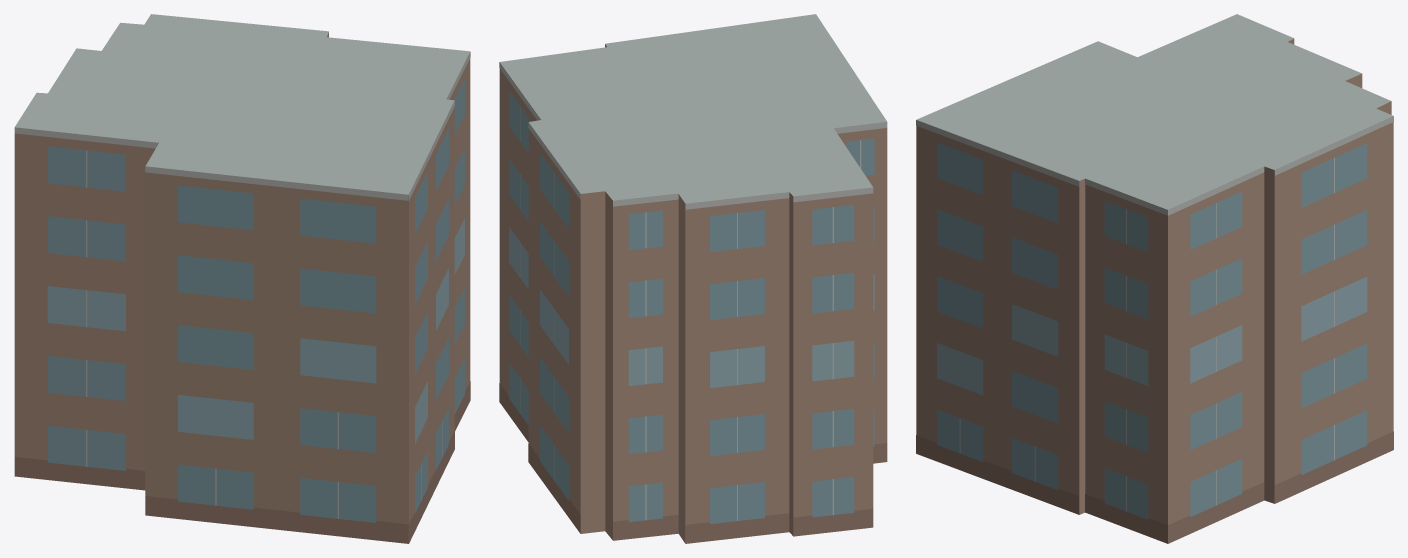
The model's file is survey-upis-32664028.glb.
3 views of the same model, side by side, from view 1: azimuth 30°, elevation 25°; view 2: azimuth 150°, elevation 25°; view 3: azimuth 270°, elevation 25° (orthographic). The views are drawn at different scales.
Parts seen in each view (by area): view 1: survey-upis-32664028.tmp; view 2: survey-upis-32664028.tmp; view 3: survey-upis-32664028.tmp.
Boxes of the visible parts, x1,y1,x2,y2 form: survey-upis-32664028.tmp: [14, 14, 470, 543]; survey-upis-32664028.tmp: [499, 14, 887, 543]; survey-upis-32664028.tmp: [916, 14, 1393, 543].
Bounding box in the file's own units: 17.63 × 14 × 18.16.
